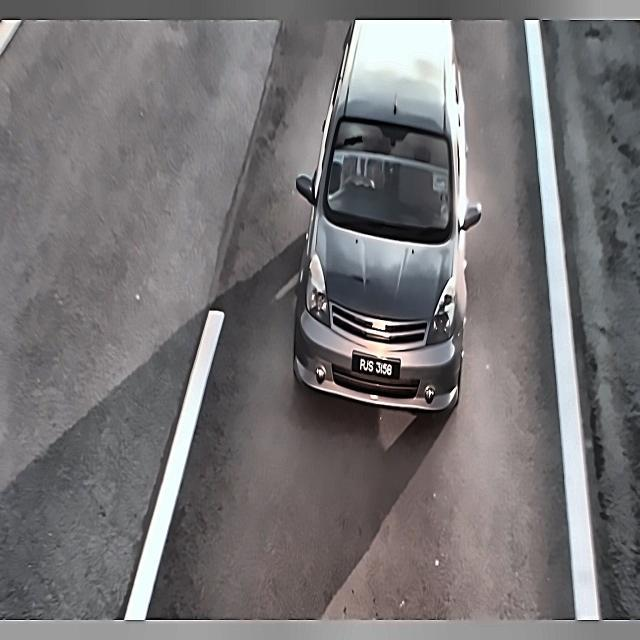car: (352, 344, 403, 387)
